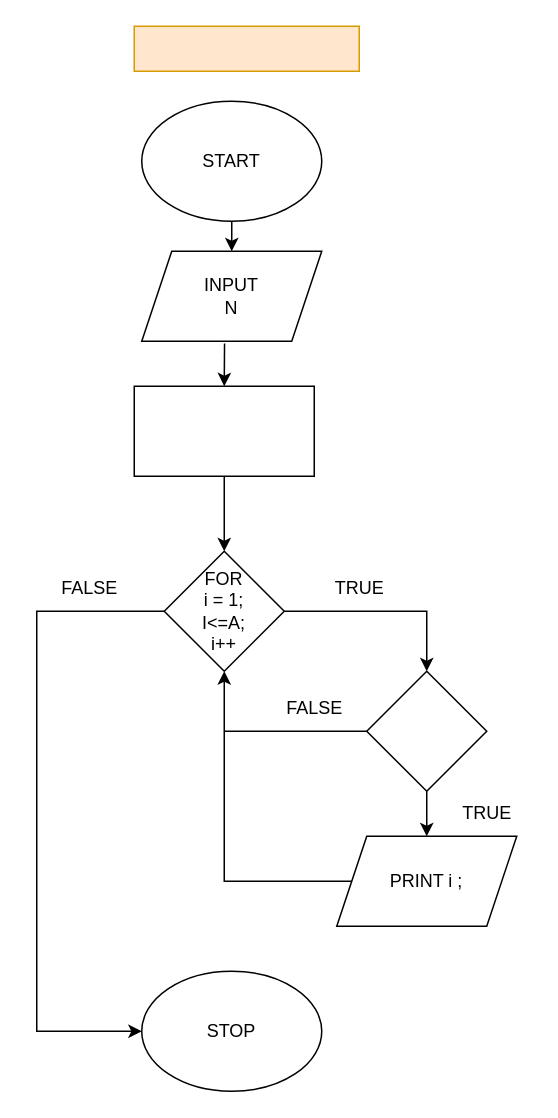
Some shapes in this 558 by 1118 pixel diagram are drawn without their labels. The box of each missing label's shape, as (x1, y1, x2, y2) in pixels:
A=N/2;: (133, 385, 314, 476)
FACTORS PROGRAM: (133, 25, 359, 71)
IF N%i==0: (365, 670, 487, 791)
